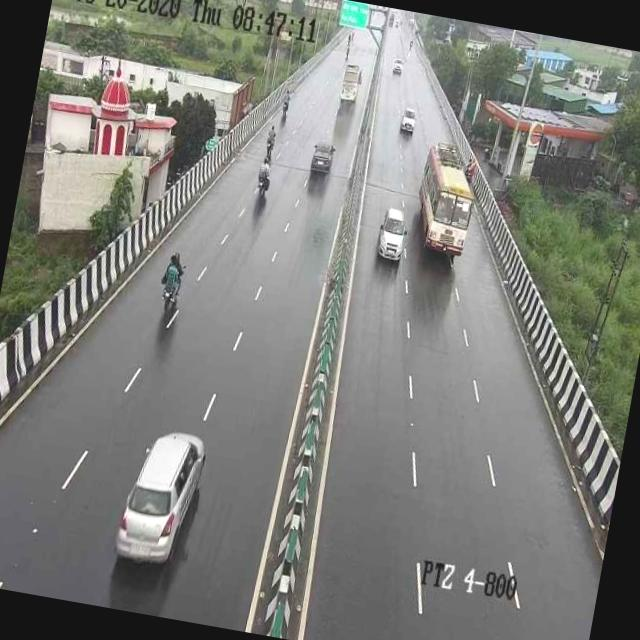car: (103, 416, 214, 580), (371, 203, 412, 269), (301, 134, 341, 185), (393, 102, 422, 140)
